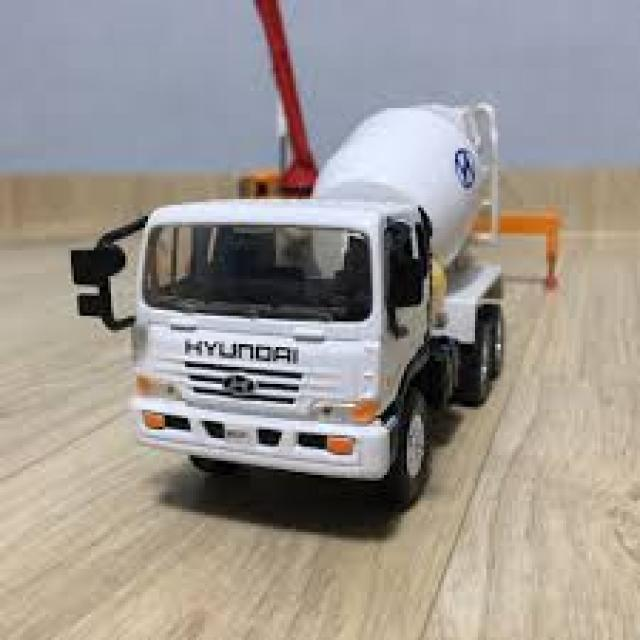Mixer Truck: (66, 94, 510, 511)
